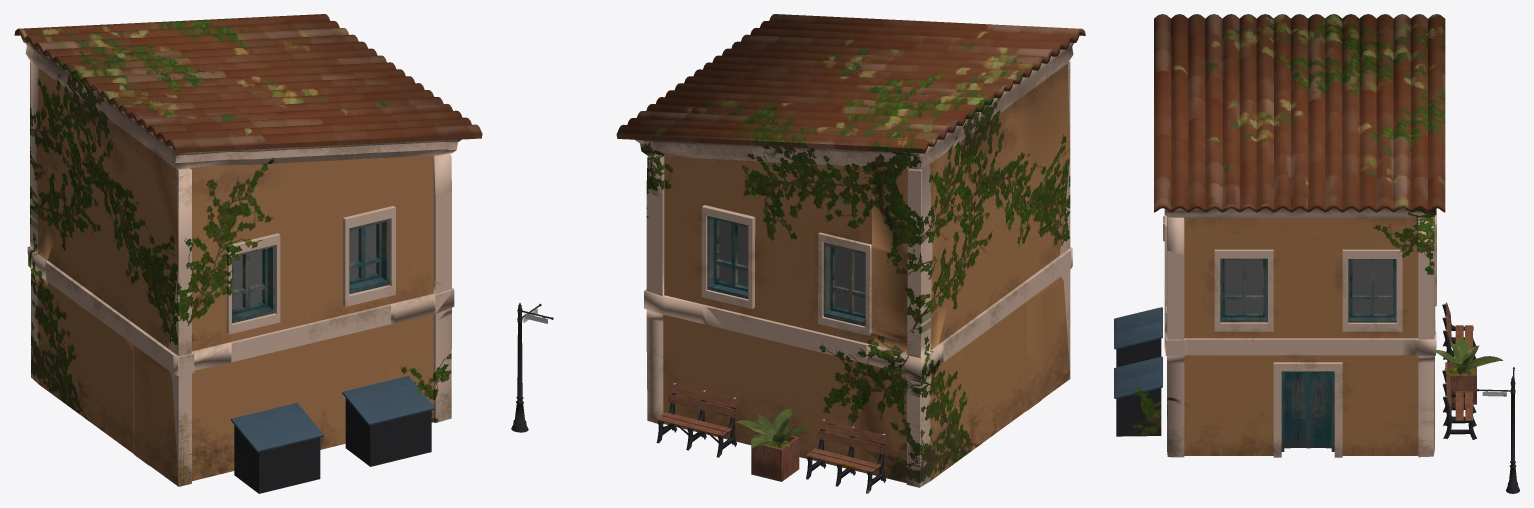
File: sf-medorange.glb
3 views of the same model, side by side, from view 1: azimuth 30°, elevation 25°; view 2: azimuth 150°, elevation 25°; view 3: azimuth 270°, elevation 25° (orthographic). The views are drawn at different scales.
Visible parts, largest first — view 1: House; view 2: House; view 3: House.
Part boxes in pixels (x1,y1,x2,y2): House: (14, 14, 482, 493); House: (511, 14, 1085, 493); House: (1114, 14, 1519, 493).
Size of the model in its own units: 11.04 by 10 by 11.42.
8 materials, 7 textured.
